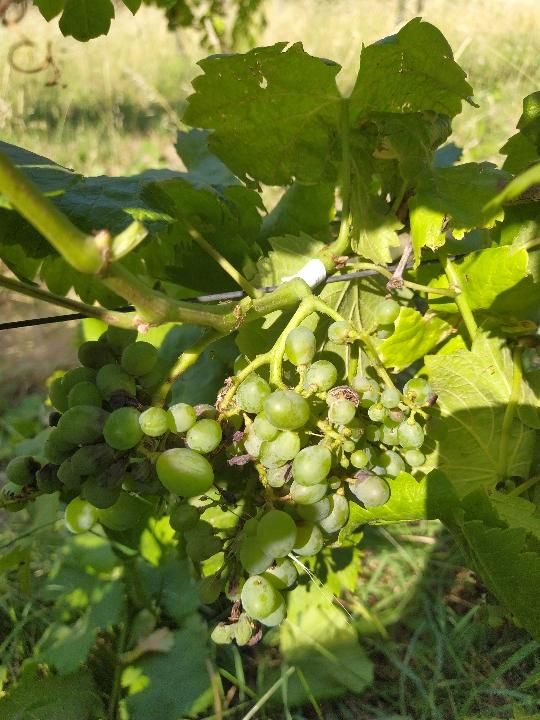grape: (7, 298, 441, 654)
